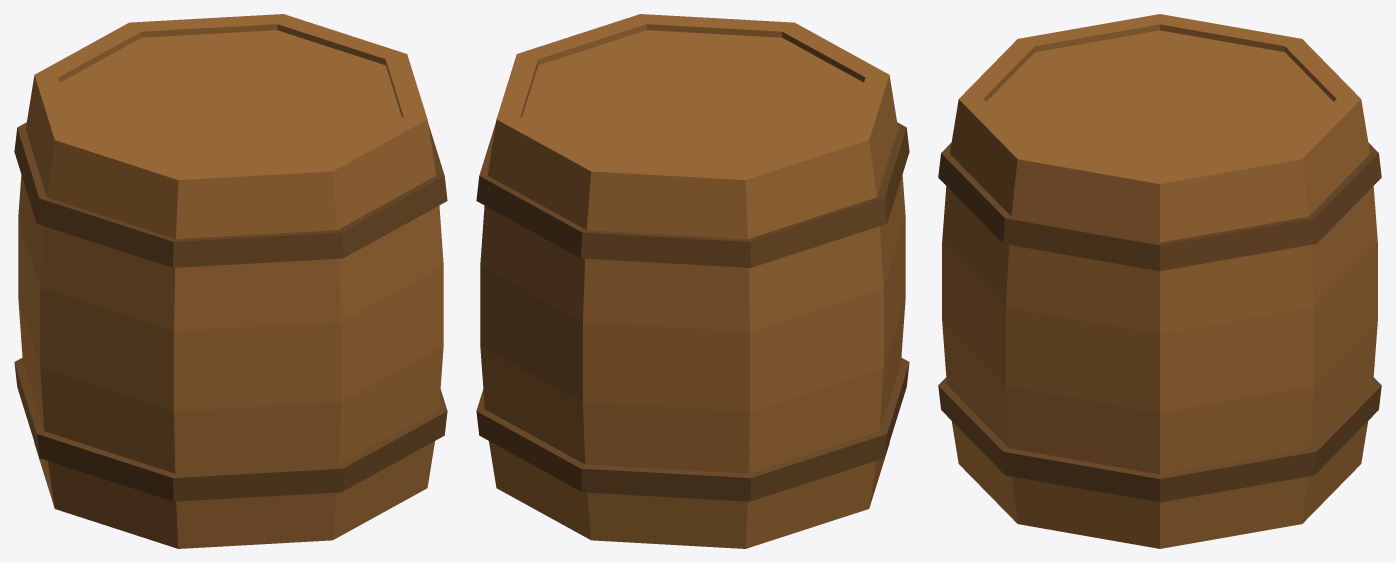
The model's file is Barrel2.fbx.
3 views of the same model, side by side, from view 1: azimuth 30°, elevation 25°; view 2: azimuth 150°, elevation 25°; view 3: azimuth 270°, elevation 25° (orthographic).
Parts seen in each view (by area): view 1: Cylinder.032; view 2: Cylinder.032; view 3: Cylinder.032.
Part boxes in pixels (x1,y1,x2,y2): Cylinder.032: (14, 14, 447, 548); Cylinder.032: (476, 14, 909, 548); Cylinder.032: (938, 14, 1381, 548).
Bounding box in the file's own units: 123 × 111 × 123.
